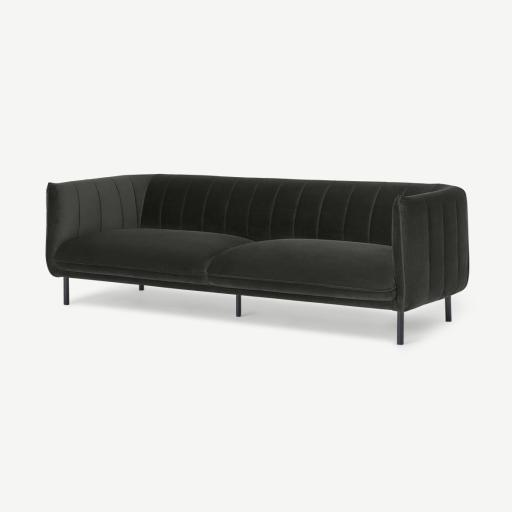back_cushion: (141, 174, 446, 245)
left_arm: (392, 186, 468, 311)
legs: (397, 313, 404, 345), (445, 297, 451, 321), (64, 277, 69, 305), (236, 294, 241, 317), (139, 285, 144, 290)
right_arm: (46, 176, 151, 276)
seat_cushion: (56, 228, 395, 301)
two-seater: (0, 0, 511, 512)
